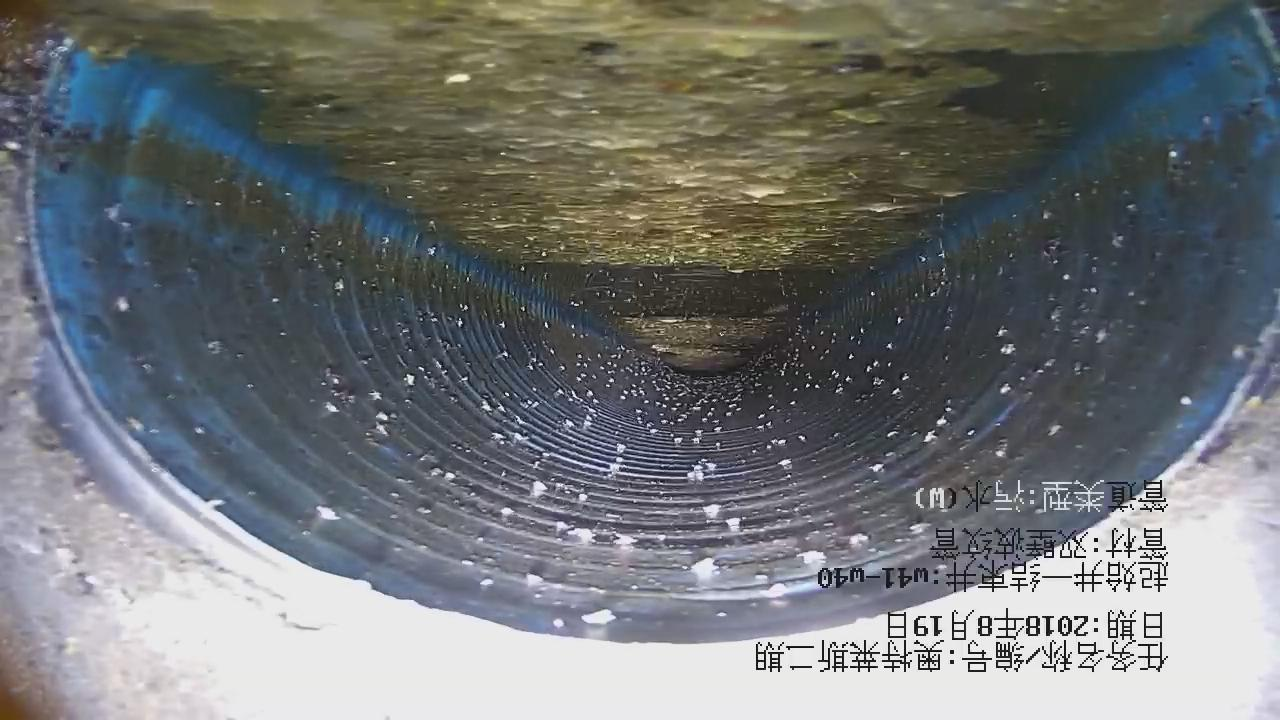FZ: (61, 1, 1225, 371)
